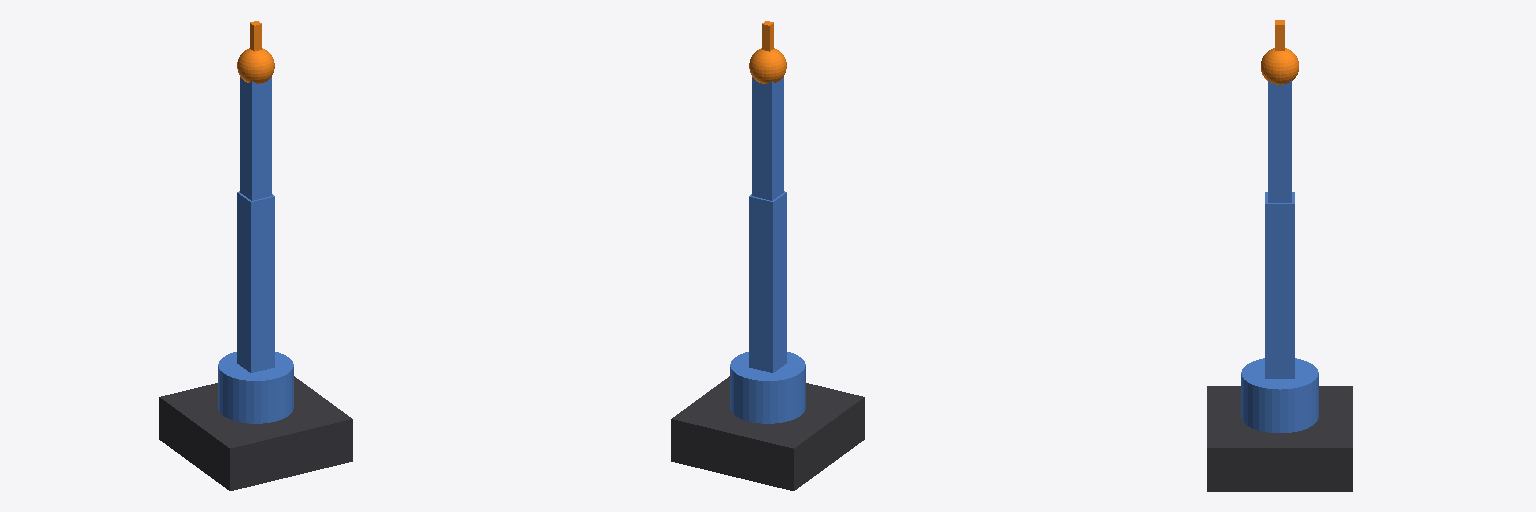
The robot description file, URDF, robot "Рука URDF":
<?xml version="1.0"?>
<!-- A small arm in URDF for «Файл → Импорт…» (plugins/urdf): a base fixed to the floor, a waist that turns all the way
     round, a shoulder and an elbow with limits, a hand welded to the forearm and a finger that slides. z up, as URDF. -->
<robot name="Рука URDF">
  <material name="graphite"><color rgba="0.28 0.28 0.3 1"/></material>
  <material name="blue"><color rgba="0.35 0.55 0.85 1"/></material>
  <material name="orange"><color rgba="1 0.57 0.16 1"/></material>

  <link name="base_link">
    <visual><origin xyz="0 0 0.05"/><geometry><box size="0.3 0.3 0.1"/></geometry><material name="graphite"/></visual>
    <inertial><mass value="5"/></inertial>
  </link>

  <joint name="waist" type="continuous">
    <parent link="base_link"/><child link="turret"/>
    <origin xyz="0 0 0.1"/><axis xyz="0 0 1"/>
  </joint>
  <link name="turret">
    <visual><origin xyz="0 0 0.05"/><geometry><cylinder radius="0.08" length="0.1"/></geometry><material name="blue"/></visual>
    <inertial><mass value="2"/></inertial>
  </link>

  <joint name="shoulder" type="revolute">
    <parent link="turret"/><child link="upper_arm"/>
    <origin xyz="0 0 0.1"/><axis xyz="0 1 0"/>
    <limit lower="-1.5" upper="1.5" effort="60" velocity="2"/>
  </joint>
  <link name="upper_arm">
    <visual><origin xyz="0 0 0.2"/><geometry><box size="0.06 0.06 0.4"/></geometry><material name="blue"/></visual>
    <inertial><mass value="1.5"/></inertial>
  </link>

  <joint name="elbow" type="revolute">
    <parent link="upper_arm"/><child link="forearm"/>
    <origin xyz="0 0 0.4"/><axis xyz="0 1 0"/>
    <limit lower="-2.2" upper="2.2" effort="30" velocity="2"/>
  </joint>
  <link name="forearm">
    <visual><origin xyz="0 0 0.15"/><geometry><box size="0.05 0.05 0.3"/></geometry><material name="blue"/></visual>
    <inertial><mass value="1"/></inertial>
  </link>

  <joint name="wrist" type="fixed">
    <parent link="forearm"/><child link="hand"/>
    <origin xyz="0 0 0.3"/>
  </joint>
  <link name="hand">
    <visual><geometry><sphere radius="0.04"/></geometry><material name="orange"/></visual>
    <inertial><mass value="0.3"/></inertial>
  </link>

  <joint name="tool" type="fixed">
    <parent link="hand"/><child link="tool0"/>
    <origin xyz="0 0 0.04"/>
  </joint>
  <link name="tool0"/>

  <joint name="finger" type="prismatic">
    <parent link="tool0"/><child link="finger"/>
    <origin xyz="0 0 0"/><axis xyz="1 0 0"/>
    <limit lower="0" upper="0.03" effort="20" velocity="0.1"/>
  </joint>
  <link name="finger">
    <visual><origin xyz="0 0 0.03"/><geometry><box size="0.02 0.02 0.06"/></geometry><material name="orange"/></visual>
    <inertial><mass value="0.05"/></inertial>
  </link>
</robot>

--- Facts derived from the render (not from the file) ---
Views: 3 orthographic renders of the robot side by side, from view 1: azimuth 30°, elevation 25°; view 2: azimuth 150°, elevation 25°; view 3: azimuth 270°, elevation 25°.
Robot: Рука URDF — 7 links, 6 joints (2 revolute, 1 continuous, 1 prismatic, 2 fixed); root link base_link; default pose: all joints at 0.
Visible links, largest first — view 1: base_link, upper_arm, turret, forearm, hand; view 2: base_link, upper_arm, turret, forearm, hand; view 3: base_link, upper_arm, turret, forearm, hand.
Link boxes in pixels (x1,y1,x2,y2): base_link: [159, 376, 352, 490]; upper_arm: [237, 191, 274, 372]; turret: [218, 352, 293, 423]; forearm: [240, 77, 271, 200]; hand: [237, 48, 274, 83]; base_link: [671, 376, 864, 490]; upper_arm: [749, 191, 786, 372]; turret: [730, 352, 805, 423]; forearm: [752, 77, 783, 200]; hand: [749, 48, 786, 83]; base_link: [1207, 386, 1352, 491]; upper_arm: [1265, 192, 1294, 378]; turret: [1241, 358, 1318, 432]; forearm: [1268, 80, 1291, 202]; hand: [1261, 48, 1298, 84].
Size in the robot's own frame: 0.3 by 0.3 by 1 metres.
Geometry: primitives only (box / cylinder / sphere), no mesh files.
